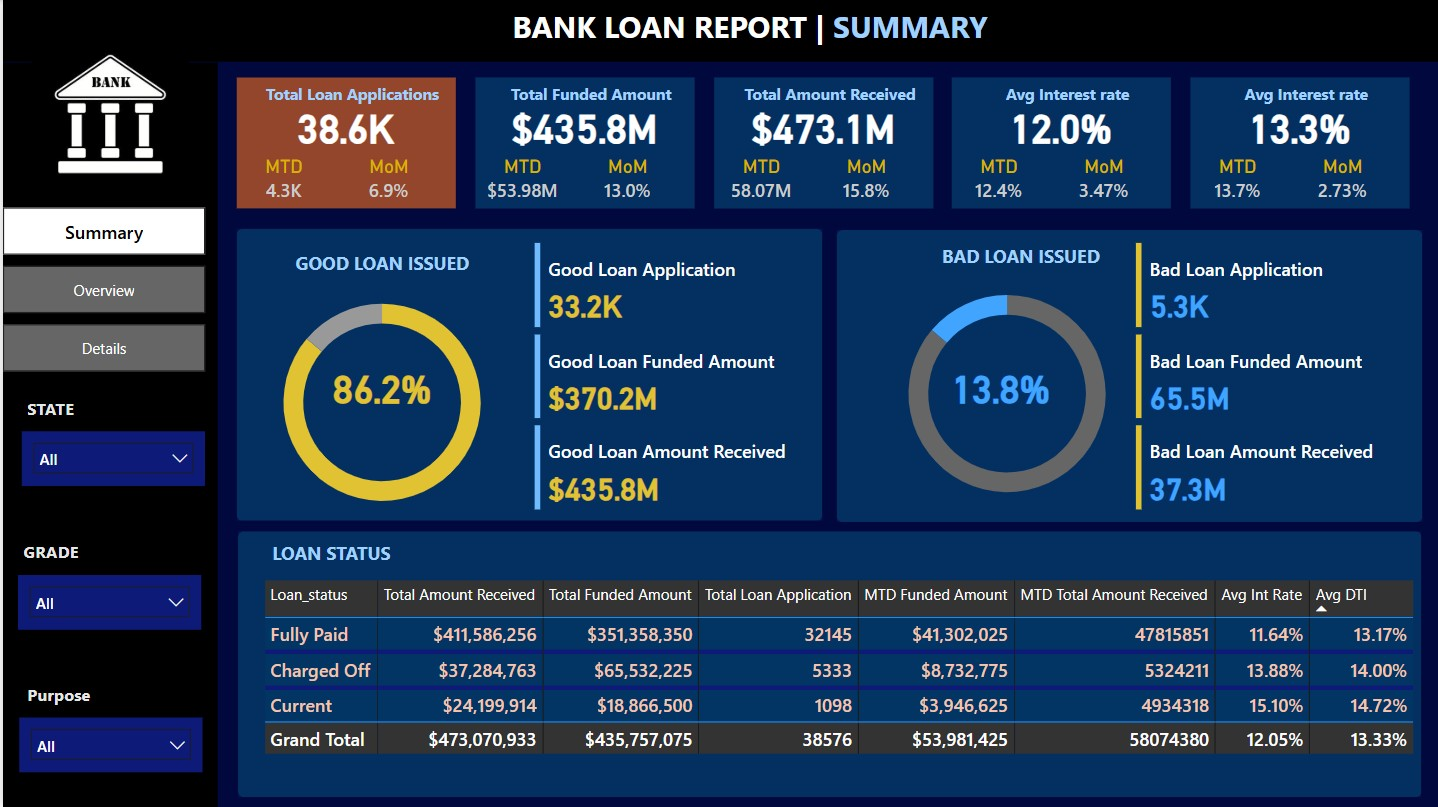

The page's visual inventory and layout, read from the dashboard file:
{"tool":"powerbi","page":{"name":"Summary","canvas":[1280,720],"ordinal":0},"visuals":[{"type":"shape","box":[208.6,203.7,521.5,260.1],"z":0},{"type":"shape","box":[0,0,1279.8,55],"z":1000},{"type":"shape","box":[0,55.2,191.4,665],"z":2000},{"type":"textbox","box":[449.1,0,457.7,60.1],"z":3000},{"type":"shape","box":[208.6,68.7,195.1,116.6],"z":3000,"group":"g1"},{"type":"shape","box":[420.9,68.7,195.1,116.6],"z":3000,"group":"g2"},{"type":"shape","box":[633.1,68.7,195.1,116.6],"z":3000,"group":"g3"},{"type":"shape","box":[845.4,68.7,195.1,116.6],"z":3000,"group":"g4"},{"type":"shape","box":[1057.7,68.7,195.1,116.6],"z":3000,"group":"g5"},{"type":"group","id":"g1","title":"Group 1","box":[208.6,68.7,206.1,116.6],"z":4000},{"type":"card","fields":{"Values":["Bank Loan.Total Loan Application"]},"box":[213.5,68.7,185.3,85.9],"z":4000,"group":"g1"},{"type":"card","fields":{"Values":["Bank Loan.Total Funded Amount"]},"box":[425.8,68.7,185.3,85.9],"z":4000,"group":"g2"},{"type":"card","fields":{"Values":["Bank Loan.Total Amount Received"]},"box":[638,68.7,185.3,85.9],"z":4000,"group":"g3"},{"type":"card","fields":{"Values":["Bank Loan.Average Interest Rate"]},"box":[850.3,68.7,185.3,85.9],"z":4000,"group":"g4"},{"type":"card","fields":{"Values":["Bank Loan.Avg DTI"]},"box":[1062.6,68.7,185.3,85.9],"z":4000,"group":"g5"},{"type":"card","fields":{"Values":["Bank Loan.Good Loan Percentage"]},"box":[245.4,301.8,185.3,85.9],"z":4000,"group":"g6"},{"type":"card","fields":{"Values":["Bank Loan.Bad Loan Percentage"]},"box":[796.3,301.8,185.3,85.9],"z":4000,"group":"g7"},{"type":"textbox","box":[208.6,68.7,206.1,38],"z":5000,"group":"g1"},{"type":"group","id":"g2","title":"Group 1","box":[420.9,68.7,206.1,116.6],"z":5000},{"type":"textbox","box":[420.9,68.7,206.1,38],"z":5000,"group":"g2"},{"type":"textbox","box":[633.1,68.7,206.1,38],"z":5000,"group":"g3"},{"type":"textbox","box":[845.4,68.7,206.1,38],"z":5000,"group":"g4"},{"type":"textbox","box":[1057.7,68.7,206.1,38],"z":5000,"group":"g5"},{"type":"card","title":"MTD","fields":{"Values":["Bank Loan.MTD Loan Applications"]},"box":[213.5,137.4,74.8,47.9],"z":6000,"group":"g1"},{"type":"card","title":"MTD","fields":{"Values":["Bank Loan.MTD Funded Amount"]},"box":[425.8,137.4,74.8,47.9],"z":6000,"group":"g2"},{"type":"card","title":"MTD","fields":{"Values":["Bank Loan.MTD Total Amount Received"]},"box":[638,137.4,74.8,47.9],"z":6000,"group":"g3"},{"type":"card","title":"MTD","fields":{"Values":["Bank Loan.MTD Avg Int Rate"]},"box":[850.3,137.4,74.8,47.9],"z":6000,"group":"g4"},{"type":"card","title":"MTD","fields":{"Values":["Bank Loan.MTD Avg DTI"]},"box":[1062.6,137.4,74.8,47.9],"z":6000,"group":"g5"},{"type":"textbox","box":[234.4,218.4,206.1,35.6],"z":6000},{"type":"group","id":"g3","title":"Group 1","box":[633.1,68.7,206.1,116.6],"z":7000},{"type":"card","title":"MoM","fields":{"Values":["Bank Loan.MOM Loan Application"]},"box":[306.8,137.4,74.8,47.9],"z":7001,"group":"g1"},{"type":"card","title":"MoM","fields":{"Values":["Bank Loan.MOM Total Funded Amount"]},"box":[519.1,137.4,74.8,47.9],"z":7001,"group":"g2"},{"type":"card","title":"MoM","fields":{"Values":["Bank Loan.MOM Total Amount Received"]},"box":[731.3,137.4,74.8,47.9],"z":7001,"group":"g3"},{"type":"card","title":"MoM","fields":{"Values":["Bank Loan.MOM Avg Int Rate"]},"box":[943.6,137.4,74.8,47.9],"z":7001,"group":"g4"},{"type":"card","title":"MoM","fields":{"Values":["Bank Loan.MOM DTI Rate"]},"box":[1155.9,137.4,74.8,47.9],"z":7001,"group":"g5"},{"type":"group","id":"g4","title":"Group 1","box":[845.4,68.7,206.1,116.6],"z":8000},{"type":"group","id":"g5","title":"Group 1","box":[1057.7,68.7,206.1,116.6],"z":9000},{"type":"shape","box":[742.3,204.9,521.5,260.1],"z":10000},{"type":"donutChart","fields":{"Category":["Bank Loan.Good vs Bad Loan"],"Y":["Bank Loan.Total Loan Application"]},"box":[212.3,244.2,250.3,229.4],"z":11000},{"type":"group","id":"g6","title":"Group 1","box":[245.4,301.8,185.3,85.9],"z":12000},{"type":"cardVisual","fields":{"Data":["Bank Loan.Good Loan Application","Bank Loan.Good Loan Funded Amount","Bank Loan.Good Loan Amount Received"]},"box":[468.7,211,250.3,247.9],"z":13000},{"type":"textbox","box":[758.3,211,296.9,35.6],"z":14000},{"type":"donutChart","fields":{"Category":["Bank Loan.Good vs Bad Loan"],"Y":["Bank Loan.Total Loan Application"]},"box":[769.3,235.6,250.3,229.4],"z":15000},{"type":"group","id":"g7","title":"Group 1","box":[796.3,301.8,185.3,85.9],"z":16000},{"type":"cardVisual","fields":{"Data":["Bank Loan.Bad Loan Application","Bank Loan.Bad Loan Funded Amount","Bank Loan.Bad Loan Amount Received"]},"box":[1003.7,211,250.3,247.9],"z":17000},{"type":"shape","box":[209.8,473.6,1054,236.8],"z":18000},{"type":"tableEx","fields":{"Values":["Bank Loan.loan_status","Bank Loan.Total Amount Received","Bank Loan.Total Funded Amount","Bank Loan.Total Loan Application","Bank Loan.MTD Funded Amount","Bank Loan.MTD Total Amount Received","Bank Loan.Average Interest Rate","Bank Loan.Avg DTI"]},"box":[227,511.7,1052.8,182.8],"z":19000},{"type":"textbox","box":[234.4,476.1,206.1,35.6],"z":20000},{"type":"slicer","fields":{"Values":["Bank Loan.address_state"]},"box":[17.2,384.1,163.2,49.1],"z":21000},{"type":"textbox","box":[17.2,348.5,63.8,35.6],"z":22000},{"type":"slicer","fields":{"Values":["Bank Loan.grade"]},"box":[13.5,511.7,163.2,49.1],"z":23000},{"type":"textbox","box":[13.5,476.1,67.5,35.6],"z":24000},{"type":"textbox","box":[17.2,603.7,82.2,35.6],"z":25000},{"type":"slicer","fields":{"Values":["Bank Loan.purpose"]},"box":[14.7,639.3,163.2,49.1],"z":26000},{"type":"image","box":[0,27,191.4,149.7],"z":27000},{"type":"pageNavigator","box":[0,185.3,180.4,148.5],"z":28000}]}

Visuals, with their boxes in screenshot pixels (x1, y1, x2, y2), scaled from the page's 1280x720 canvas onto the 1438x807 screenshot:
shape: 234 228 820 520
shape: 0 0 1437 62
shape: 0 62 215 806
textbox: 505 0 1019 67
shape: 234 77 454 208
shape: 473 77 692 208
shape: 711 77 930 208
shape: 950 77 1169 208
shape: 1188 77 1407 208
"Group 1" group: 234 77 466 208
card - Bank Loan.Total Loan Application: 240 77 448 173
card - Bank Loan.Total Funded Amount: 478 77 687 173
card - Bank Loan.Total Amount Received: 717 77 925 173
card - Bank Loan.Average Interest Rate: 955 77 1163 173
card - Bank Loan.Avg DTI: 1194 77 1402 173
card - Bank Loan.Good Loan Percentage: 276 338 484 435
card - Bank Loan.Bad Loan Percentage: 895 338 1103 435
textbox: 234 77 466 120
"Group 1" group: 473 77 704 208
textbox: 473 77 704 120
textbox: 711 77 943 120
textbox: 950 77 1181 120
textbox: 1188 77 1420 120
"MTD" card: 240 154 324 208
"MTD" card: 478 154 562 208
"MTD" card: 717 154 801 208
"MTD" card: 955 154 1039 208
"MTD" card: 1194 154 1278 208
textbox: 263 245 495 285
"Group 1" group: 711 77 943 208
"MoM" card: 345 154 429 208
"MoM" card: 583 154 667 208
"MoM" card: 822 154 906 208
"MoM" card: 1060 154 1144 208
"MoM" card: 1299 154 1383 208
"Group 1" group: 950 77 1181 208
"Group 1" group: 1188 77 1420 208
shape: 834 230 1420 521
donutChart - Bank Loan.Good vs Bad Loan x Bank Loan.Total Loan Application: 239 274 520 531
"Group 1" group: 276 338 484 435
cardVisual - Bank Loan.Good Loan Application x Bank Loan.Good Loan Funded Amount: 527 236 808 514
textbox: 852 236 1185 276
donutChart - Bank Loan.Good vs Bad Loan x Bank Loan.Total Loan Application: 864 264 1145 521
"Group 1" group: 895 338 1103 435
cardVisual - Bank Loan.Bad Loan Application x Bank Loan.Bad Loan Funded Amount: 1128 236 1409 514
shape: 236 531 1420 796
tableEx - Bank Loan.loan_status x Bank Loan.Total Amount Received: 255 574 1437 778
textbox: 263 534 495 574
slicer - Bank Loan.address_state: 19 431 203 486
textbox: 19 391 91 431
slicer - Bank Loan.grade: 15 574 199 629
textbox: 15 534 91 574
textbox: 19 677 112 717
slicer - Bank Loan.purpose: 17 717 200 772
image: 0 30 215 198
pageNavigator: 0 208 203 374
